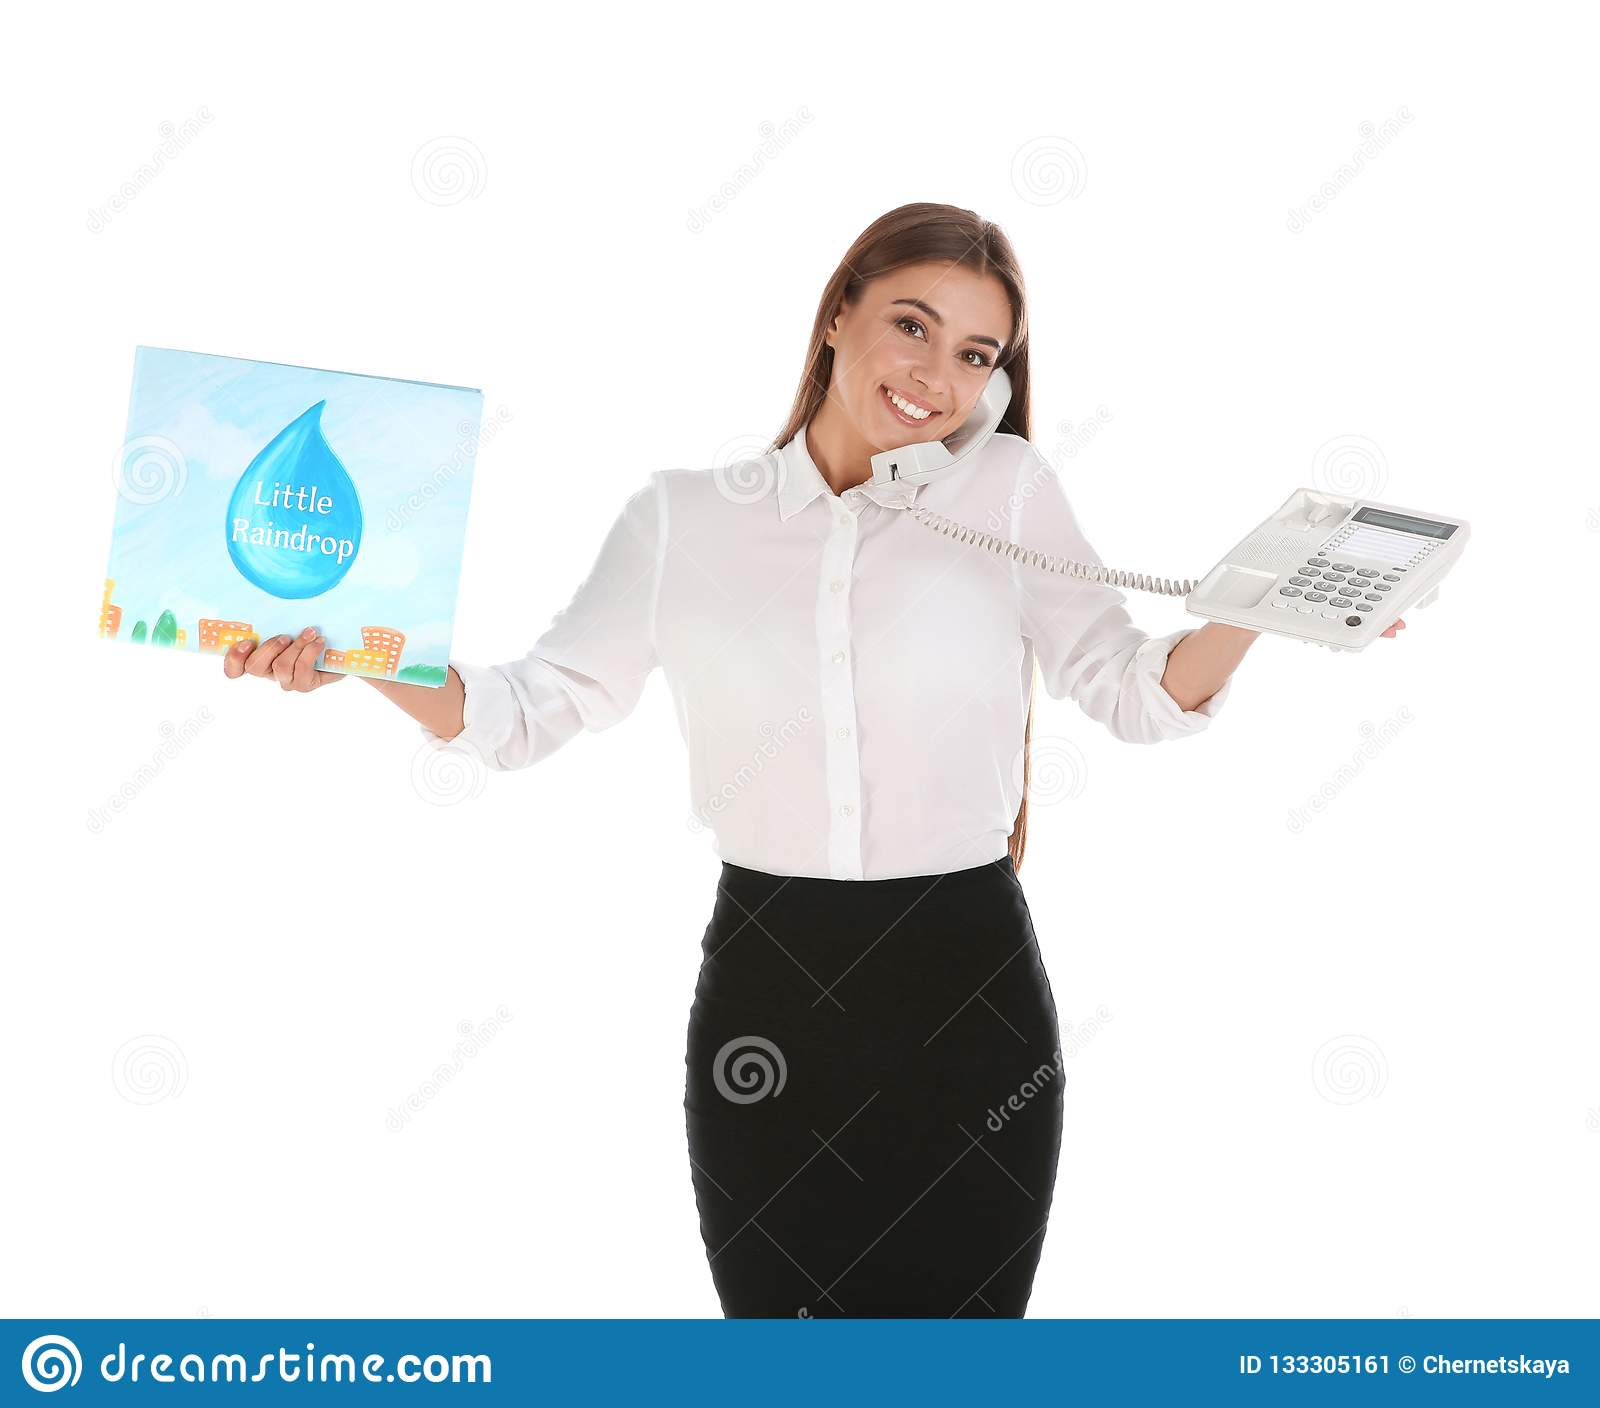talk: (856, 284, 1031, 514)
